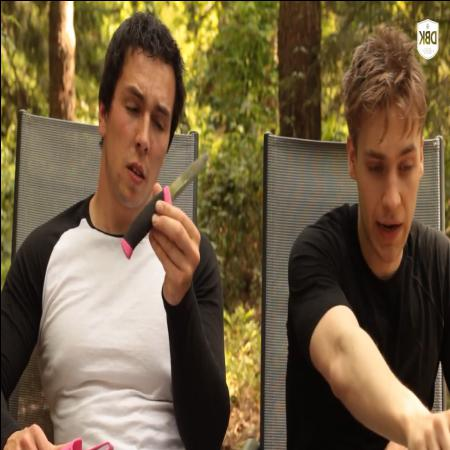long weapon: (116, 138, 215, 260)
